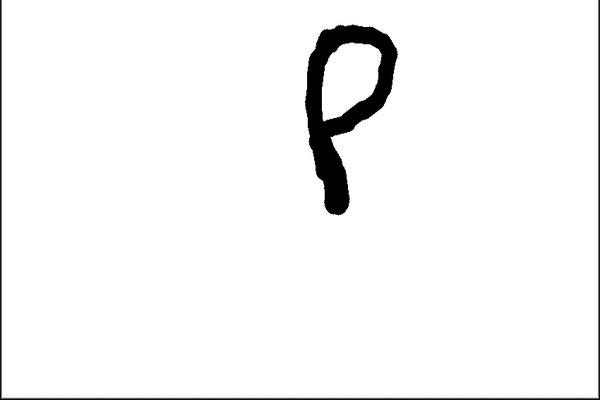P: (287, 17, 403, 229)
